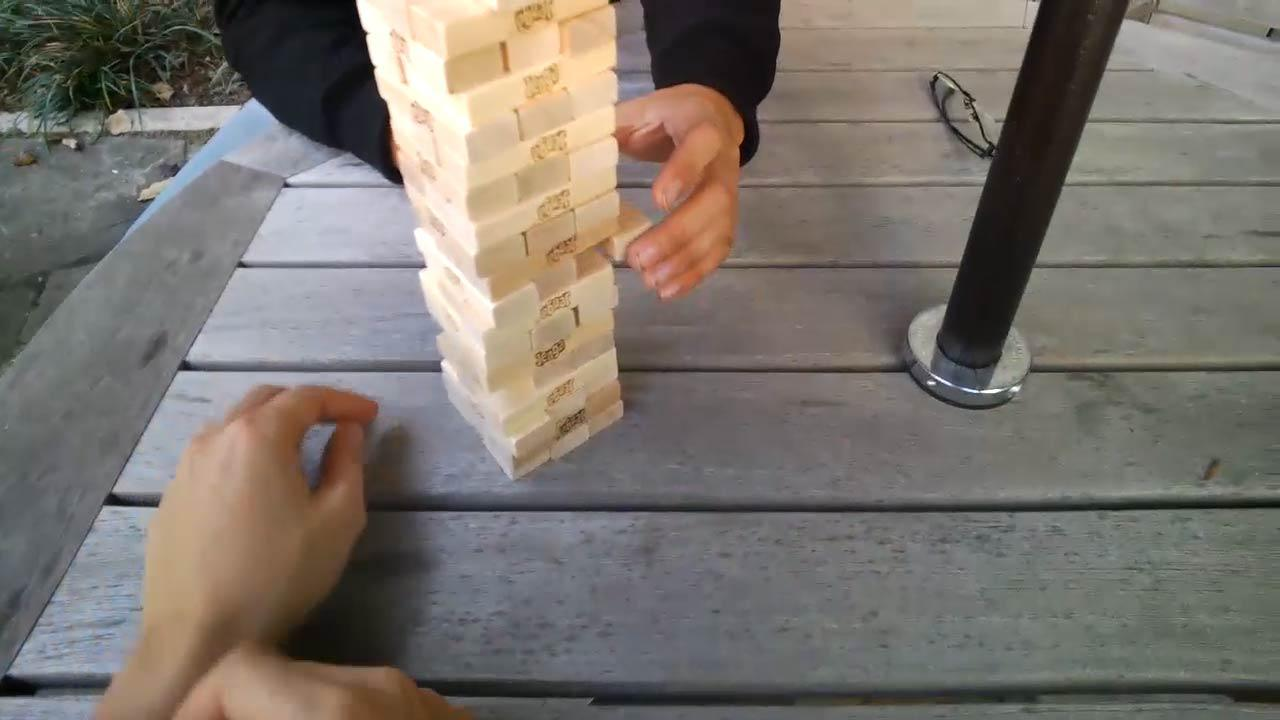hand: (141, 379, 376, 637), (619, 79, 740, 303), (160, 641, 473, 720)
